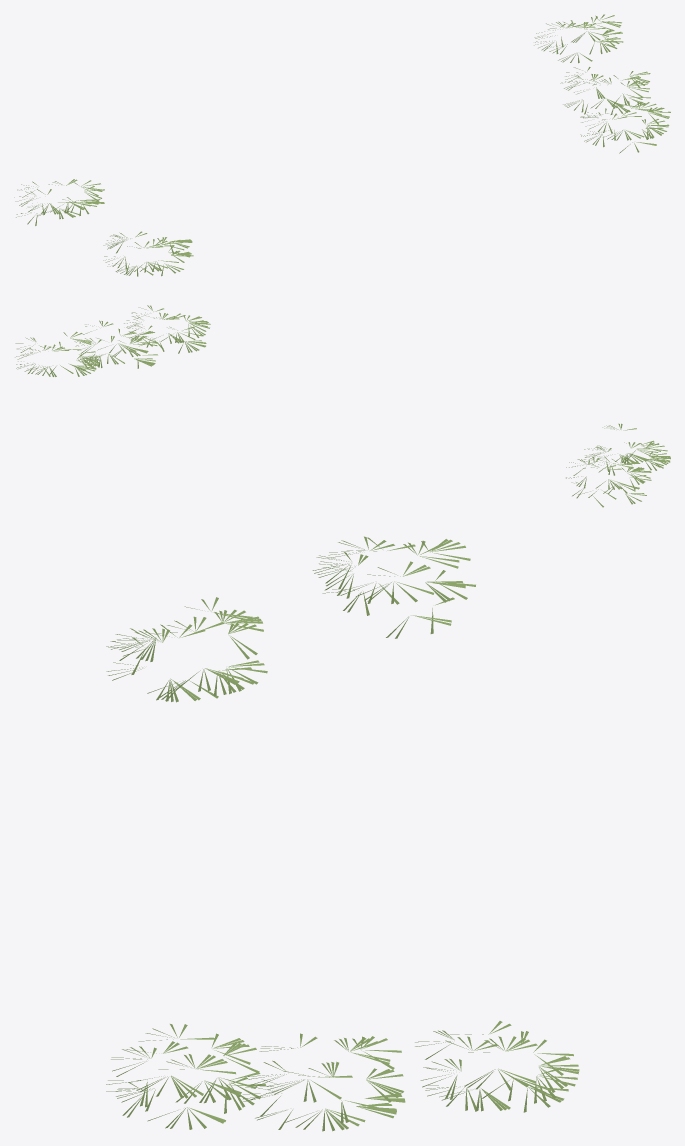
File: teaching3-vegetation-13-near.glb
The picture shows the model from 3 angles, top to bottom: view 1: azimuth 30°, elevation 25°; view 2: azimuth 150°, elevation 25°; view 3: azimuth 270°, elevation 25°; orthographic projection. The views are drawn at different scales.
Parts seen in each view (by area): view 1: vegetation palm fan; view 2: vegetation palm fan; view 3: vegetation palm fan.
Boxes of the visible parts, x1,y1,x2,y2 form: vegetation palm fan: [14, 14, 670, 276]; vegetation palm fan: [15, 305, 670, 507]; vegetation palm fan: [106, 536, 579, 1131].
Size of the model in its own units: 40.36 by 3.41 by 13.76.
